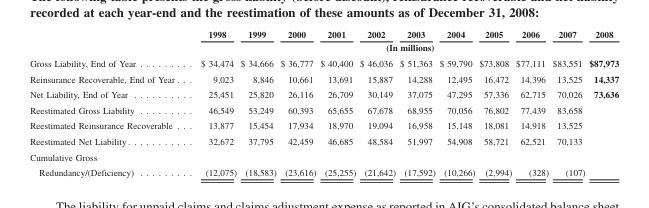table: (29, 28, 618, 177)
table column: (29, 28, 187, 177), (187, 28, 237, 177), (237, 28, 277, 177), (277, 28, 317, 177), (317, 28, 357, 177), (396, 28, 436, 177), (436, 28, 476, 177), (357, 28, 396, 177), (476, 28, 513, 177), (549, 28, 586, 177), (513, 28, 549, 177), (586, 28, 618, 177)
table column header: (29, 28, 618, 54)
table projected row header: (29, 148, 618, 164)
table row: (29, 54, 618, 70), (29, 70, 618, 86), (29, 101, 618, 117), (29, 117, 618, 133), (29, 148, 618, 164), (29, 86, 618, 101), (29, 133, 618, 148), (29, 40, 618, 54), (29, 164, 618, 177), (29, 28, 618, 40)
table spanning cell: (187, 40, 618, 54)
